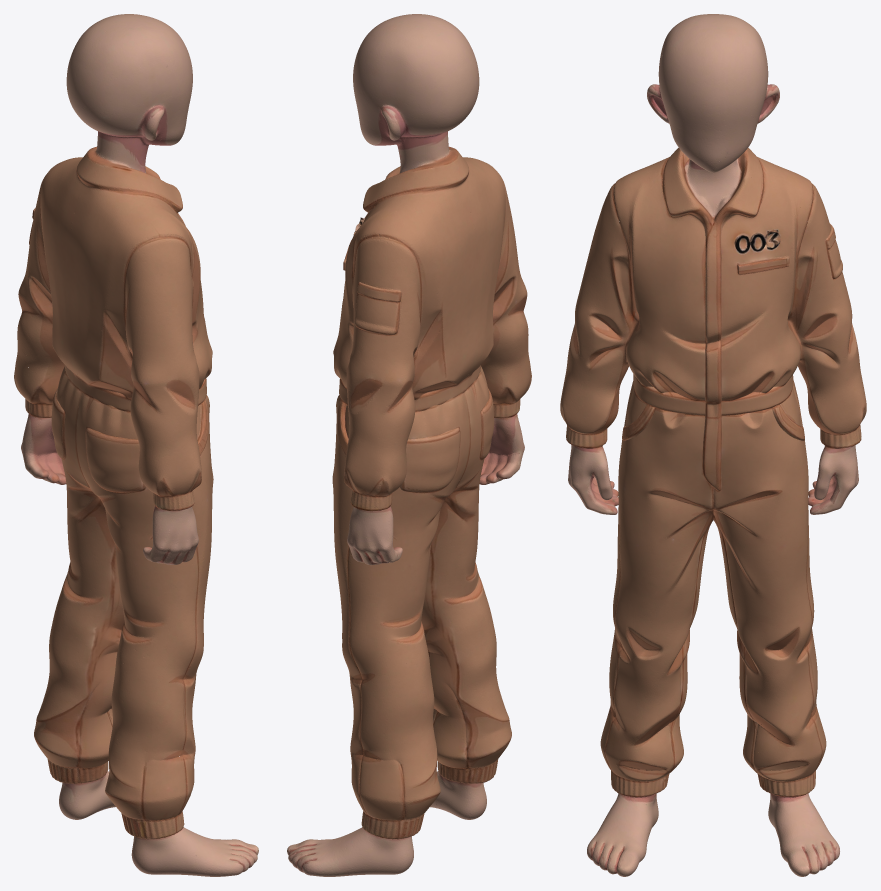
The model's file is orange+jumpsuit+prisoner+3d+model.glb.
The picture shows the model from 3 angles, left to right: view 1: azimuth 30°, elevation 25°; view 2: azimuth 150°, elevation 25°; view 3: azimuth 270°, elevation 25°; orthographic projection.
Parts seen in each view (by area): view 1: tripo_node_00949a88-ee08-4187-820d-5d481f65ae5f; view 2: tripo_node_00949a88-ee08-4187-820d-5d481f65ae5f; view 3: tripo_node_00949a88-ee08-4187-820d-5d481f65ae5f.
Boxes of the visible parts, left/top/right/bottom form: tripo_node_00949a88-ee08-4187-820d-5d481f65ae5f: left=14, top=14, right=258, bottom=876; tripo_node_00949a88-ee08-4187-820d-5d481f65ae5f: left=287, top=14, right=531, bottom=876; tripo_node_00949a88-ee08-4187-820d-5d481f65ae5f: left=560, top=14, right=866, bottom=876.
Size of the model in its own units: 0.182 by 1 by 0.3394.
Materials: 1 (1 with a texture image).
